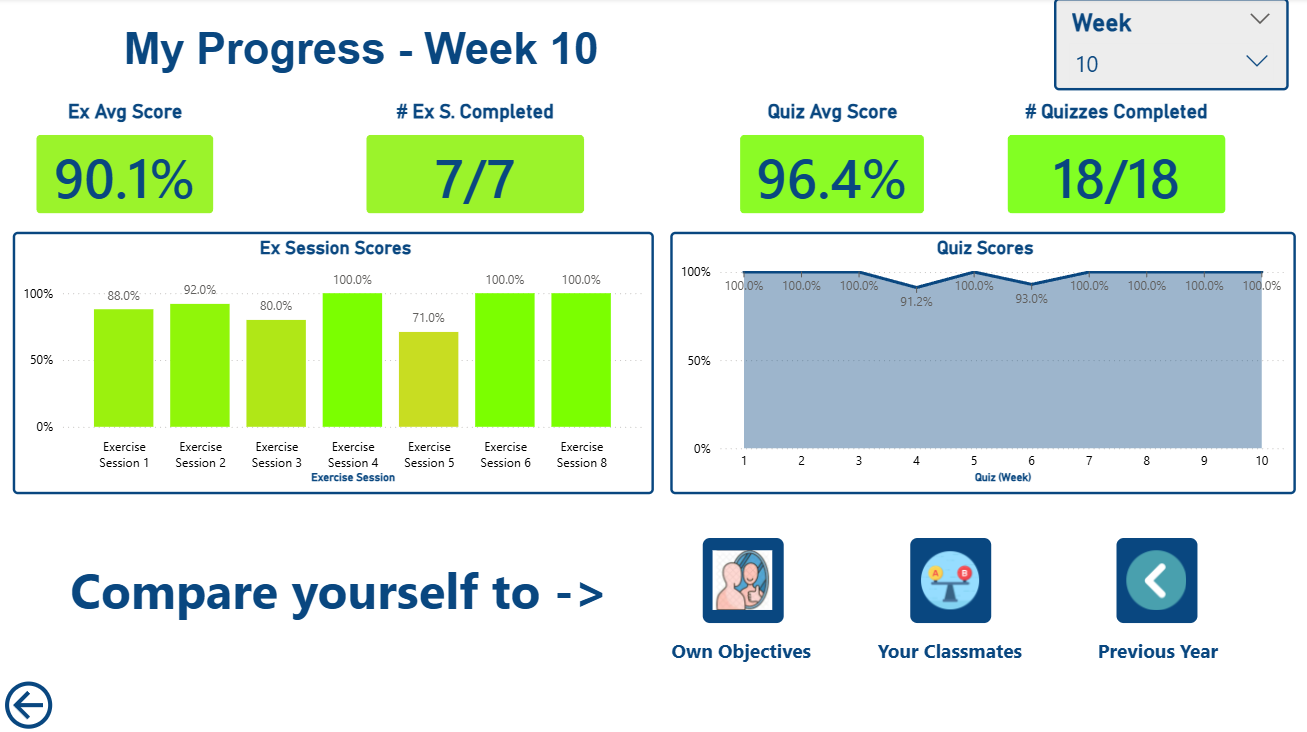

Layout of this report page (visuals, bound fields, positions):
{"tool":"powerbi","page":{"name":"My Progress","canvas":[1280,720],"ordinal":2},"visuals":[{"type":"slicer","fields":{"Values":["WeekTable.Value"]},"box":[1031.6,0,229.3,90.4],"z":2000},{"type":"actionButton","title":"hjfjhg","box":[891.4,528.1,78.8,83.3],"z":3000},{"type":"lineChart","title":"Quiz Scores","fields":{"Category":["Quiz Table.QuizWeek"],"Y":["Quiz Table.Cumulative Average Score"]},"box":[656.4,228.4,611.6,257],"z":4000},{"type":"card","fields":{"Values":["Objectives.Selected Week Title2"]},"box":[107.5,0,493.4,94.9],"z":5000},{"type":"actionButton","title":"hjfjhg","box":[1093.4,528.1,78.8,83.3],"z":6000},{"type":"actionButton","title":"hjfjhg","box":[688.5,528.1,78.8,83.3],"z":7000},{"type":"cardVisual","title":"Quiz Avg Score","fields":{"Data":["Quiz Table.Cumulative Average Score"]},"box":[707.5,100.3,214.9,128.1],"z":8000},{"type":"cardVisual","title":"# Quizzes Completed","fields":{"Data":["Quiz Table.QuizCompletion rate"]},"box":[969.9,100.3,247.2,128.1],"z":9000},{"type":"clusteredColumnChart","title":"Ex Session Scores","fields":{"Category":["Ex Table.Exercise Session"],"Y":["Ex Table.Cumulative Average Ex Score"]},"box":[13.4,228.4,626.9,257],"z":10000},{"type":"cardVisual","title":"Ex Avg Score","fields":{"Data":["Ex Table.Cumulative Average Ex Score"]},"box":[19.7,100.3,207.8,128.1],"z":11000},{"type":"cardVisual","title":"# Ex S. Completed","fields":{"Data":["Ex Table.ExCompletion rate"]},"box":[343,100.3,247.2,128.1],"z":12000},{"type":"actionButton","box":[0,662.2,81.5,58],"z":13000},{"type":"textbox","box":[65.2,540.8,556.2,93.3],"z":15000},{"type":"textbox","box":[653.1,621.4,151.3,40.8],"z":21000},{"type":"textbox","box":[855.1,621.4,151.3,40.8],"z":22000},{"type":"textbox","box":[1069.8,621.4,151.3,40.8],"z":23000}]}

Visuals, with their boxes in screenshot pixels (x1, y1, x2, y2), scaled from the page's 1280x720 canvas onto the 1307x732 screenshot:
slicer - WeekTable.Value: (left=1053, top=0, right=1287, bottom=92)
"hjfjhg" actionButton: (left=910, top=537, right=991, bottom=622)
"Quiz Scores" lineChart: (left=670, top=232, right=1295, bottom=493)
card - Objectives.Selected Week Title2: (left=110, top=0, right=614, bottom=96)
"hjfjhg" actionButton: (left=1116, top=537, right=1197, bottom=622)
"hjfjhg" actionButton: (left=703, top=537, right=783, bottom=622)
"Quiz Avg Score" cardVisual: (left=722, top=102, right=942, bottom=232)
"# Quizzes Completed" cardVisual: (left=990, top=102, right=1243, bottom=232)
"Ex Session Scores" clusteredColumnChart: (left=14, top=232, right=654, bottom=493)
"Ex Avg Score" cardVisual: (left=20, top=102, right=232, bottom=232)
"# Ex S. Completed" cardVisual: (left=350, top=102, right=603, bottom=232)
actionButton: (left=0, top=673, right=83, bottom=731)
textbox: (left=67, top=550, right=635, bottom=645)
textbox: (left=667, top=632, right=821, bottom=673)
textbox: (left=873, top=632, right=1028, bottom=673)
textbox: (left=1092, top=632, right=1247, bottom=673)
